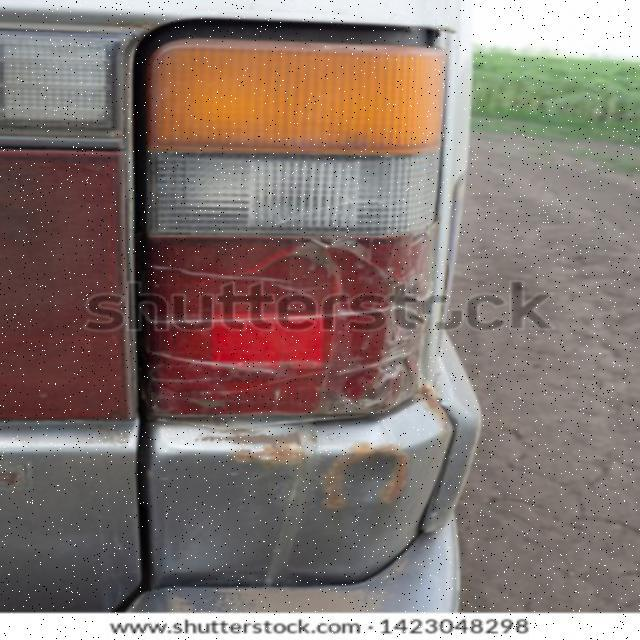Taillight-Damage: (121, 4, 448, 414)
rear-bumper-dent: (0, 383, 549, 616)
